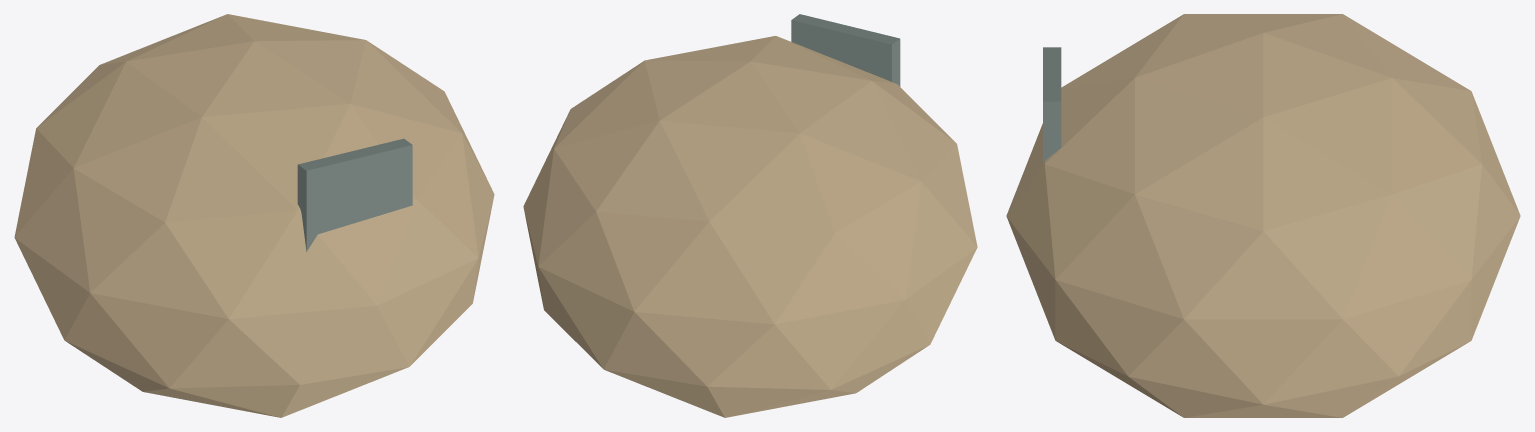
The model's file is SM_Tienda_v2_Iglu_LOD0.fbx.
The picture shows the model from 3 angles, left to right: view 1: azimuth 30°, elevation 25°; view 2: azimuth 150°, elevation 25°; view 3: azimuth 270°, elevation 25°; orthographic projection. The views are drawn at different scales.
Visible parts, largest first — view 1: SM_vida_fuerte_v17_LOD0; view 2: SM_vida_fuerte_v17_LOD0; view 3: SM_vida_fuerte_v17_LOD0.
Boxes of the visible parts, x1,y1,x2,y2 form: SM_vida_fuerte_v17_LOD0: (14, 14, 494, 417); SM_vida_fuerte_v17_LOD0: (523, 14, 977, 417); SM_vida_fuerte_v17_LOD0: (1006, 14, 1520, 417).
Bounding box in the file's own units: 2.66 × 2.2 × 2.8.
